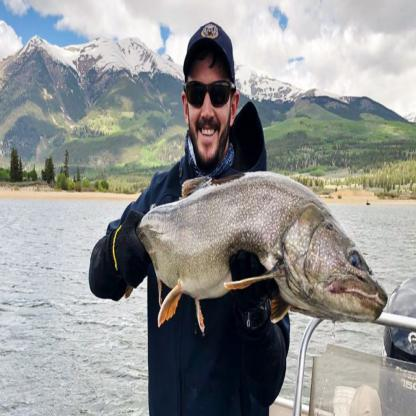fish: (123, 167, 387, 322)
